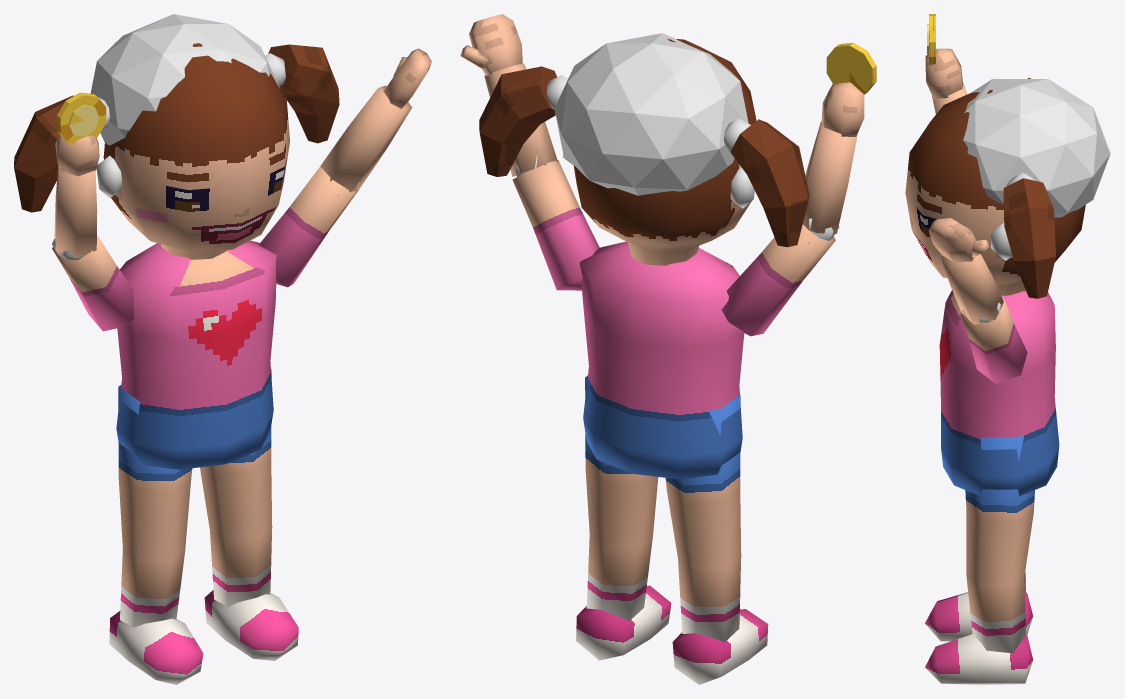
The model's file is Kid Pigtails.fbx.
3 renders of one model, left to right at view 1: azimuth 30°, elevation 25°; view 2: azimuth 150°, elevation 25°; view 3: azimuth 270°, elevation 25°, orthographic. The views are drawn at different scales.
Parts seen in each view (by area): view 1: Kid Pigtails torso, Kid Pigtails head, Kid Pigtails leg R.001, Kid Pigtails hair hair cap, Kid Pigtails leg L.001, Kid Pigtails arm L upper, Kid Pigtails shoe L, Kid Pigtails shoe R, Kid Pigtails arm L forearm.001, Kid Pigtails pigtail 1, Kid Pigtails arm R upper, Kid Pigtails pigtail -1 (+6 smaller); view 2: Kid Pigtails torso, Kid Pigtails hair hair cap, Kid Pigtails leg R.001, Kid Pigtails head, Kid Pigtails leg L.001, Kid Pigtails arm L upper, Kid Pigtails pigtail -1, Kid Pigtails arm R upper, Kid Pigtails pigtail 1, Kid Pigtails arm R forearm.001, Kid Pigtails shoe R, Kid Pigtails shoe L (+5 smaller); view 3: Kid Pigtails torso, Kid Pigtails hair hair cap, Kid Pigtails head, Kid Pigtails leg L.001, Kid Pigtails pigtail 1, Kid Pigtails shoe L, Kid Pigtails arm L upper, Kid Pigtails arm L forearm.001, Kid Pigtails shoe R, Kid Pigtails arm L hand, Kid Pigtails arm R hand, Kid Pigtails ear 1 (+1 smaller).
Part boxes in pixels (x1,y1,x2,y2): Kid Pigtails torso: (116, 240, 276, 469); Kid Pigtails head: (103, 43, 289, 259); Kid Pigtails leg R.001: (118, 385, 192, 627); Kid Pigtails hair hair cap: (90, 14, 279, 145); Kid Pigtails leg L.001: (200, 369, 272, 606); Kid Pigtails arm L upper: (259, 166, 358, 287); Kid Pigtails shoe L: (204, 590, 298, 660); Kid Pigtails shoe R: (109, 611, 203, 684); Kid Pigtails arm L forearm.001: (320, 85, 412, 192); Kid Pigtails pigtail 1: (268, 44, 339, 143); Kid Pigtails arm R upper: (52, 235, 134, 331); Kid Pigtails pigtail -1: (14, 95, 73, 212); Kid Pigtails torso: (579, 241, 744, 479); Kid Pigtails hair hair cap: (554, 33, 748, 195); Kid Pigtails leg R.001: (665, 395, 741, 641); Kid Pigtails head: (573, 39, 756, 265); Kid Pigtails leg L.001: (585, 375, 658, 620); Kid Pigtails arm L upper: (512, 160, 599, 290); Kid Pigtails pigtail -1: (730, 119, 809, 247); Kid Pigtails arm R upper: (721, 224, 835, 336); Kid Pigtails pigtail 1: (479, 66, 556, 176); Kid Pigtails arm R forearm.001: (803, 121, 857, 233); Kid Pigtails shoe R: (672, 609, 768, 684); Kid Pigtails shoe L: (576, 585, 671, 660); Kid Pigtails torso: (939, 290, 1059, 495); Kid Pigtails hair hair cap: (963, 79, 1110, 217); Kid Pigtails head: (905, 90, 1085, 295); Kid Pigtails leg L.001: (965, 434, 1034, 653); Kid Pigtails pigtail 1: (1003, 178, 1055, 298); Kid Pigtails shoe L: (925, 634, 1032, 684); Kid Pigtails arm L upper: (960, 298, 1027, 383); Kid Pigtails arm L forearm.001: (941, 254, 1003, 324); Kid Pigtails shoe R: (925, 592, 1033, 641); Kid Pigtails arm L hand: (928, 218, 976, 263); Kid Pigtails arm R hand: (925, 48, 962, 98); Kid Pigtails ear 1: (991, 222, 1012, 260).
Size of the model in its own units: 0.6857 by 1.07 by 0.3424.
12 materials, 9 textured.
